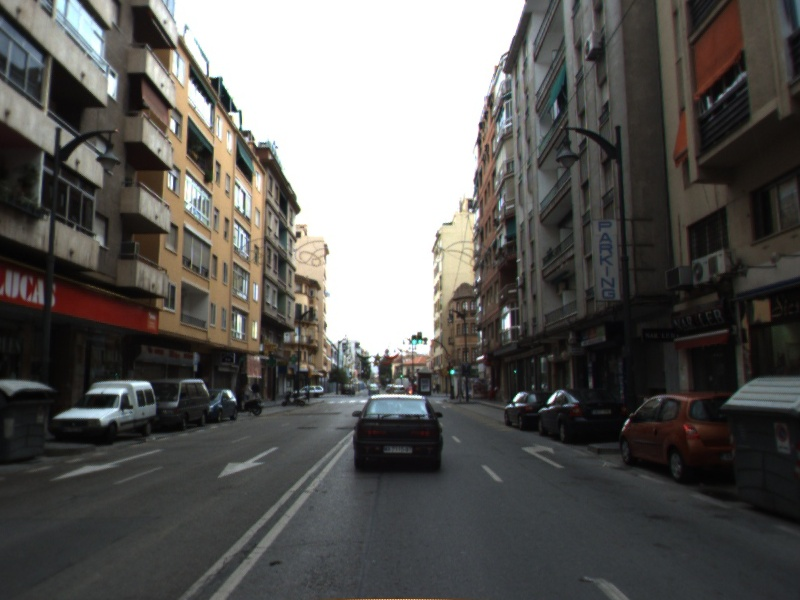RIGHT: (520, 441, 567, 470)
